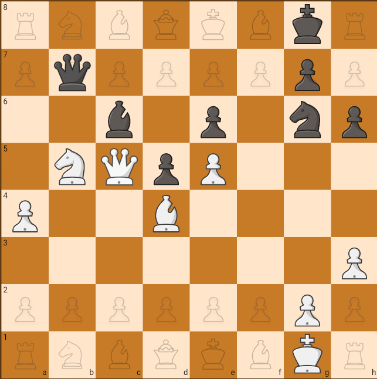bb: (102, 98, 140, 139)
bk: (285, 0, 332, 48)
bn: (288, 98, 327, 142)
bp: (287, 54, 328, 94), (148, 146, 185, 187), (192, 101, 229, 141), (339, 99, 372, 140)
bq: (52, 54, 92, 95)
wb: (147, 192, 184, 234)
wk: (287, 331, 329, 375)
wn: (53, 144, 91, 189)
wp: (2, 195, 45, 234), (194, 146, 232, 188), (292, 288, 329, 329), (337, 241, 372, 281)
wq: (99, 144, 140, 188)
